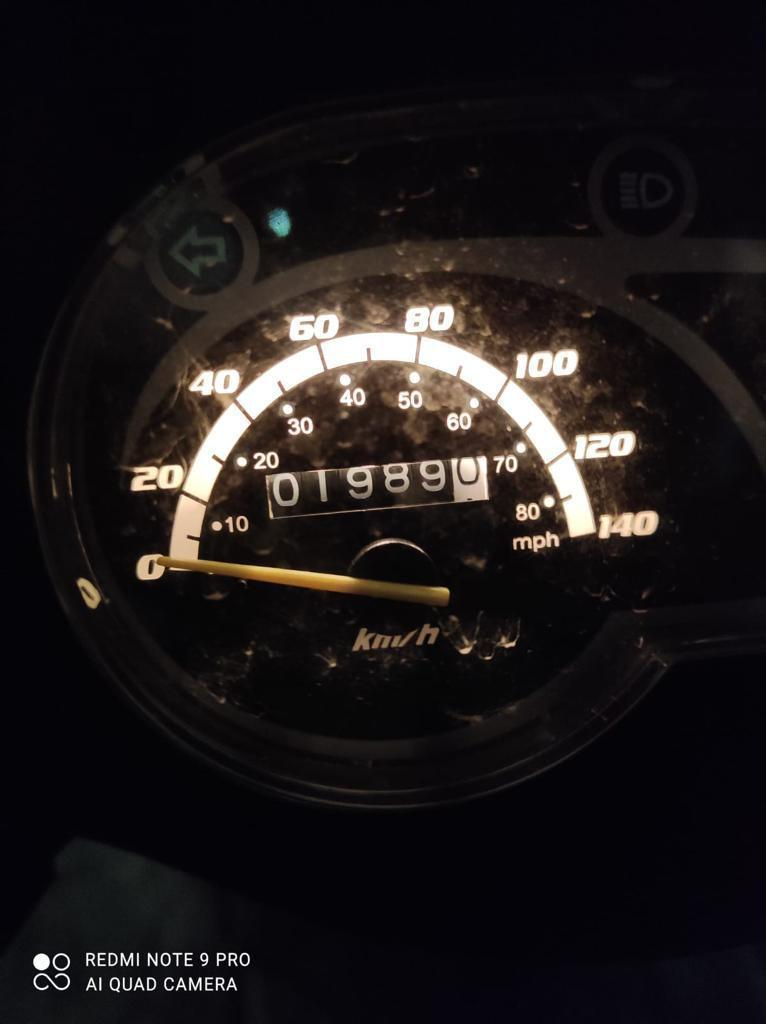0: (271, 470, 300, 507), (455, 453, 481, 485), (266, 450, 279, 469)
1: (316, 469, 328, 503)
8: (381, 459, 410, 493)
9: (346, 466, 374, 499), (419, 458, 446, 492)
odometer: (262, 453, 491, 522)
